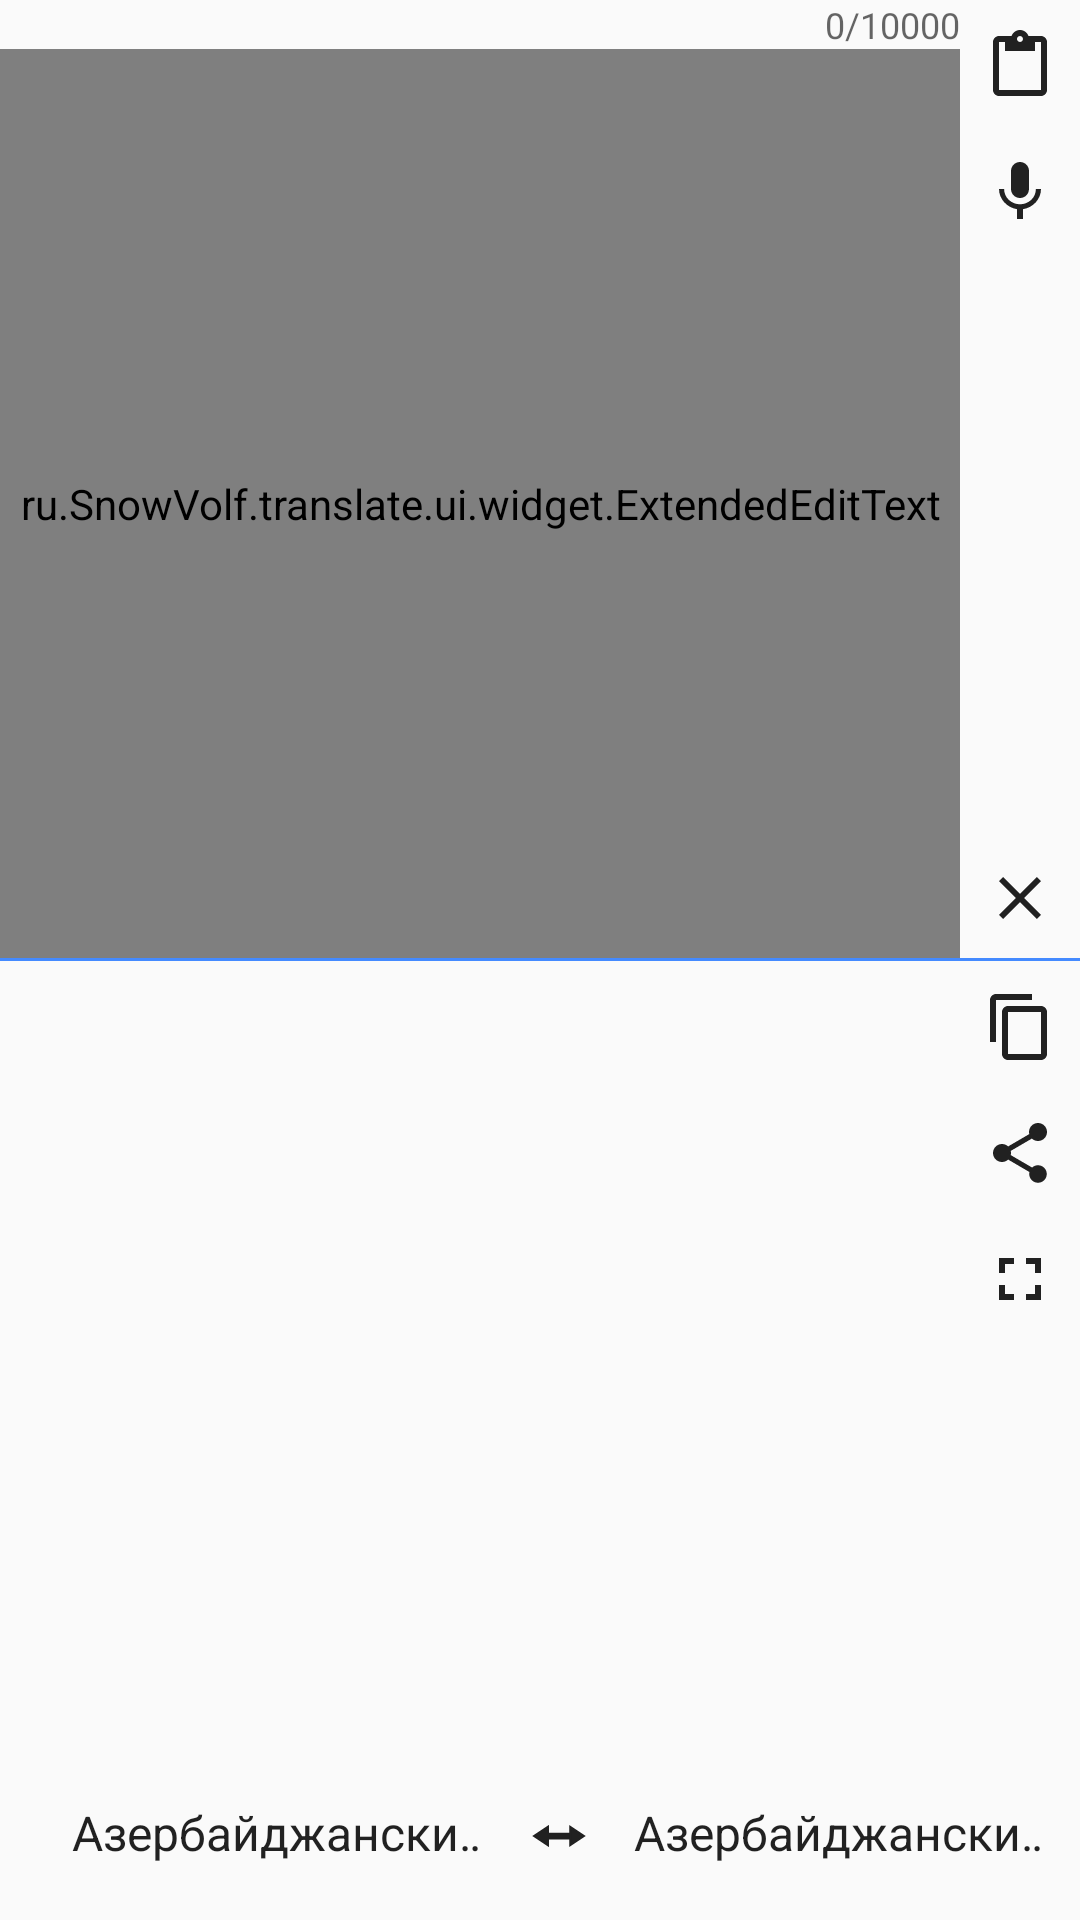

Icon bounding boxes for this 1080w x 1920h phone screenshot, format (x1, y1, x2, y2):
bar clear: (999, 877, 1041, 919)
bar fullscreen: (999, 1258, 1041, 1300)
bar paste: (993, 30, 1047, 96)
bar share: (993, 1123, 1047, 1183)
mic: (999, 162, 1041, 219)
swap lang: (532, 1825, 586, 1847)
